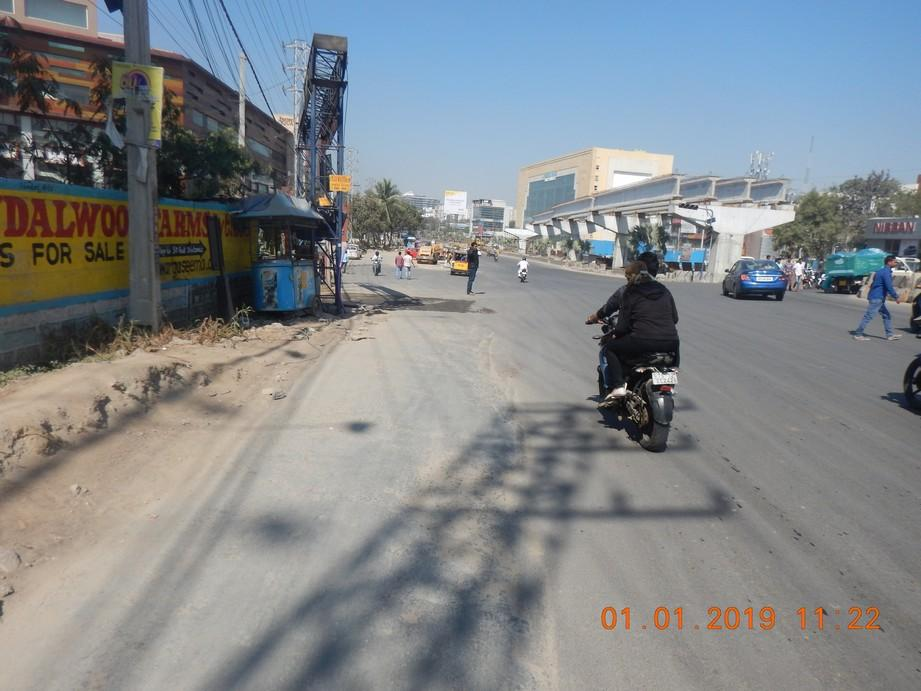plate: (651, 369, 678, 386)
